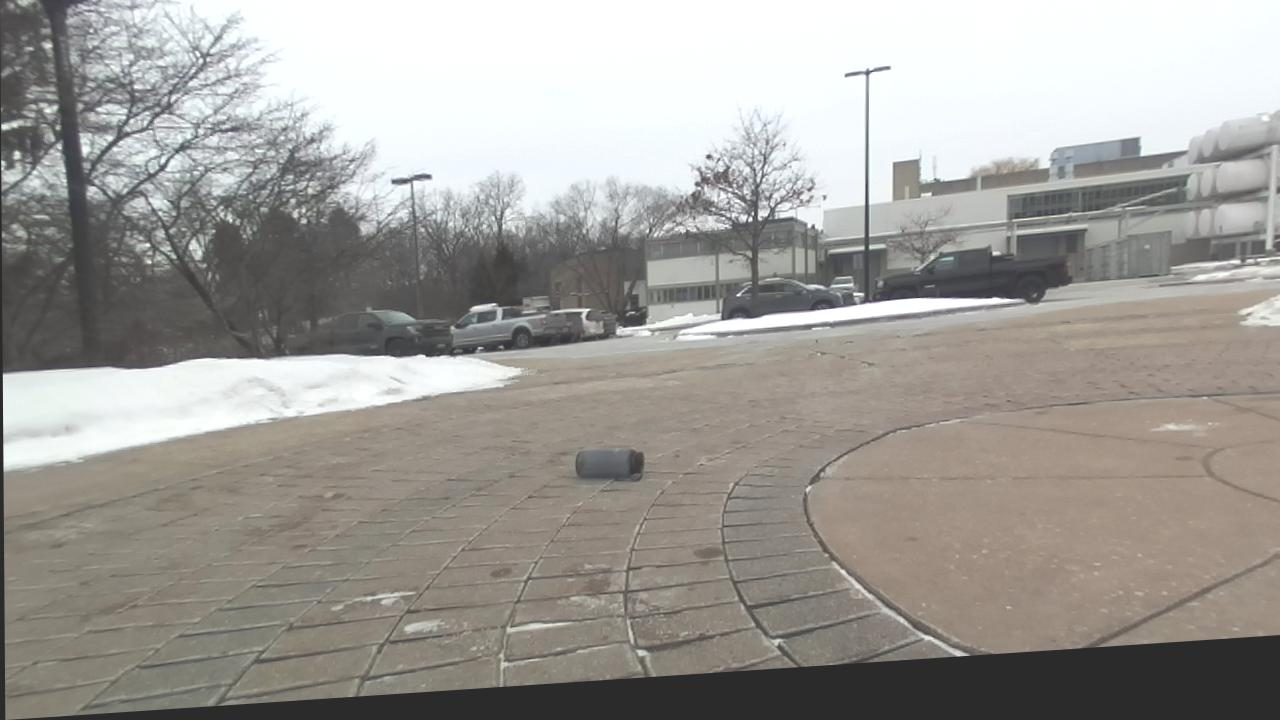bottle: (575, 448, 644, 480)
